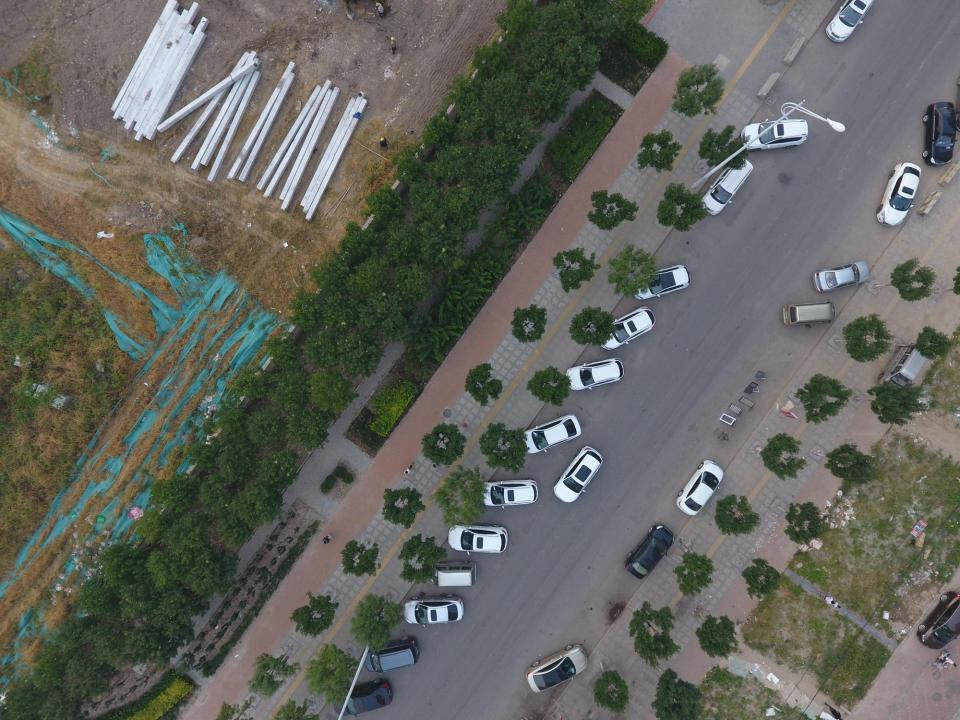car: (524, 644, 588, 692), (876, 162, 921, 227), (624, 524, 676, 579), (553, 446, 604, 502), (676, 460, 723, 515), (598, 306, 655, 350), (521, 413, 582, 454), (917, 592, 960, 648), (922, 100, 958, 166), (740, 117, 808, 151), (332, 678, 392, 716), (363, 636, 420, 675), (825, 1, 876, 42), (632, 264, 690, 300), (403, 594, 464, 628), (448, 522, 508, 556), (566, 357, 624, 391), (812, 260, 871, 292), (479, 478, 538, 508)
van: (701, 158, 754, 216), (877, 343, 929, 389), (782, 300, 836, 326), (428, 562, 477, 588)
